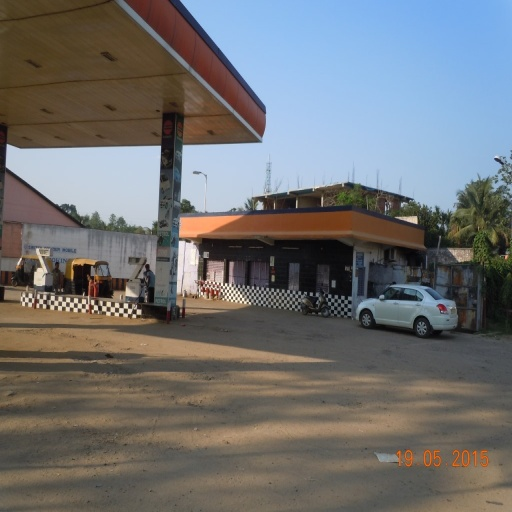roof: (1, 1, 263, 146)
